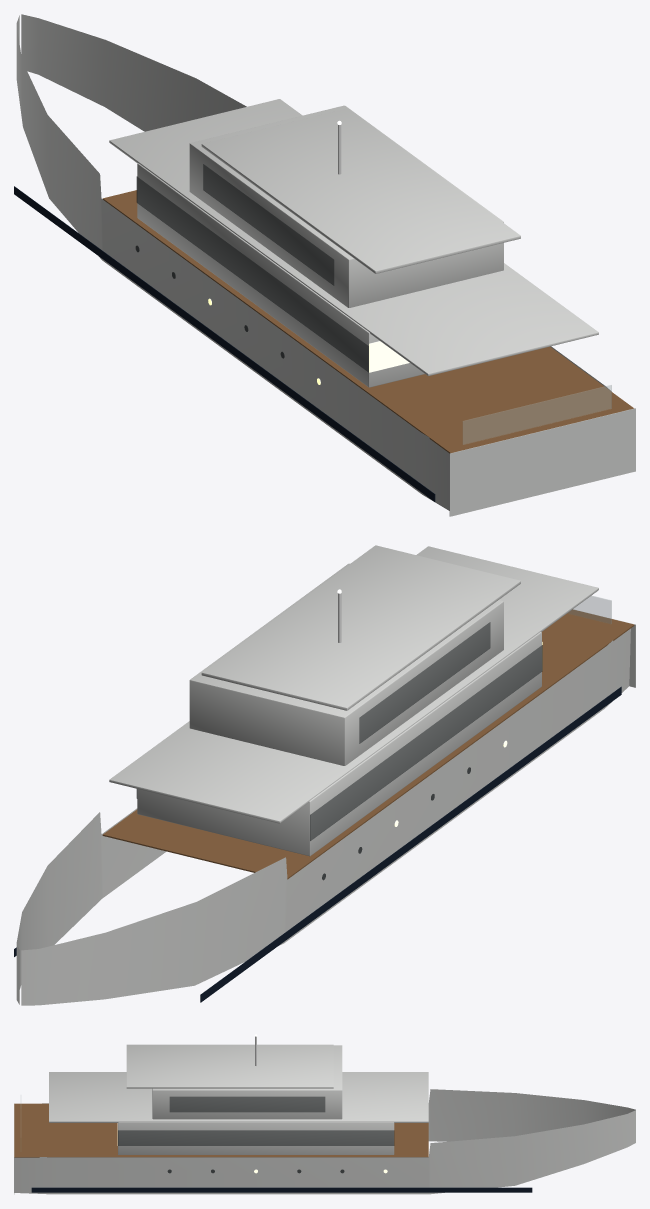
Rendered from marlin_neighbor.glb.
The picture shows the model from 3 angles, top to bottom: view 1: azimuth 30°, elevation 25°; view 2: azimuth 150°, elevation 25°; view 3: azimuth 270°, elevation 25°; orthographic projection. The views are drawn at different scales.
Parts seen in each view (by area): view 1: marlin_neighbor; view 2: marlin_neighbor; view 3: marlin_neighbor.
Boxes of the visible parts, x1,y1,x2,y2 form: marlin_neighbor: [14, 14, 635, 516]; marlin_neighbor: [14, 545, 635, 1005]; marlin_neighbor: [14, 1034, 635, 1194].
Size of the model in its own units: 7.44 by 8.53 by 36.02.
